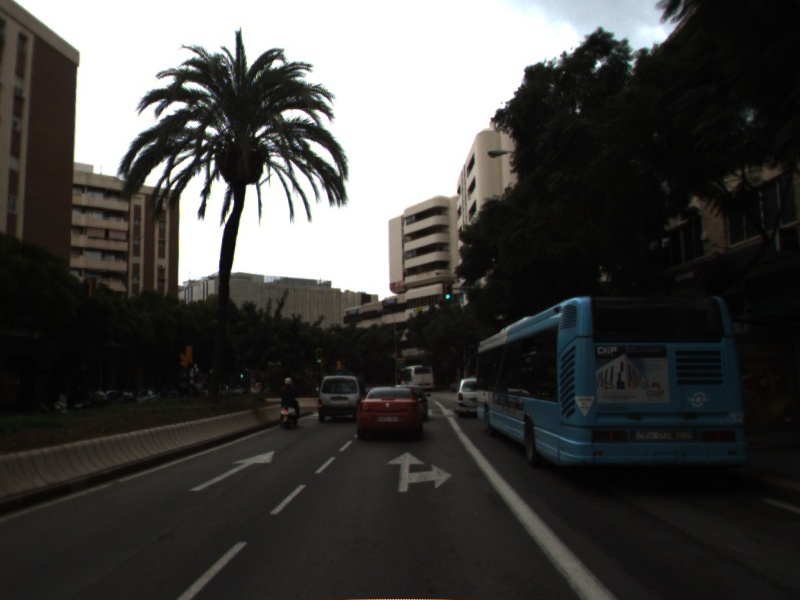STRAIGHT: (187, 448, 277, 494)
STRAIGHT_RIGHT: (384, 450, 455, 495)
